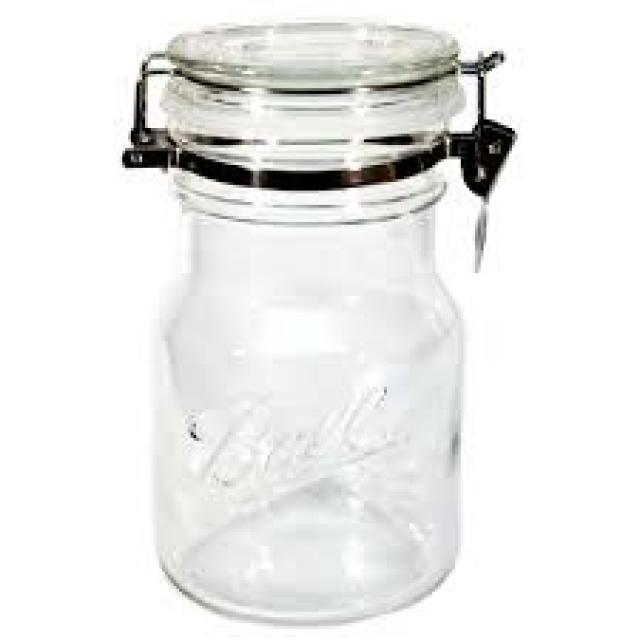glass: (156, 23, 458, 620)
